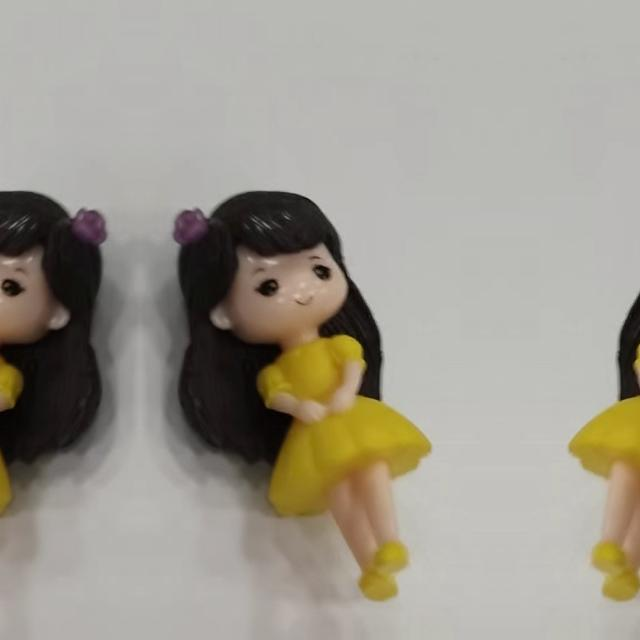woman dress: (261, 330, 425, 602), (575, 329, 640, 602), (0, 329, 19, 602)
woman head: (164, 182, 366, 342), (0, 182, 116, 342), (634, 182, 640, 342)
